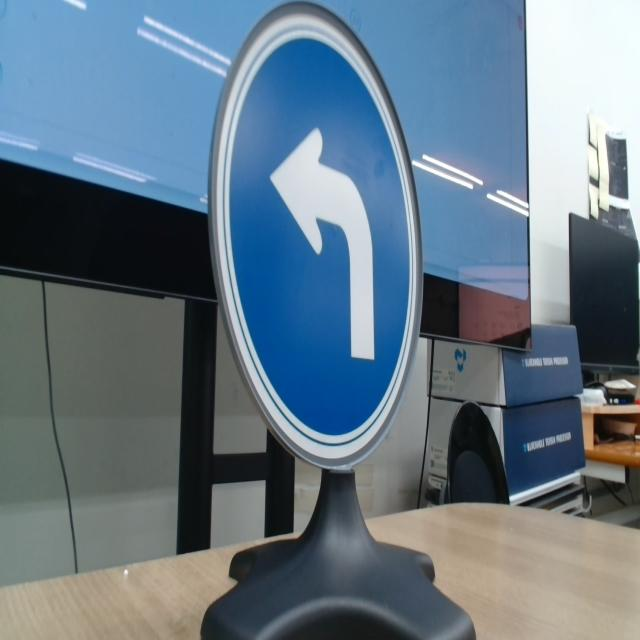left_direction: (197, 1, 435, 463)
